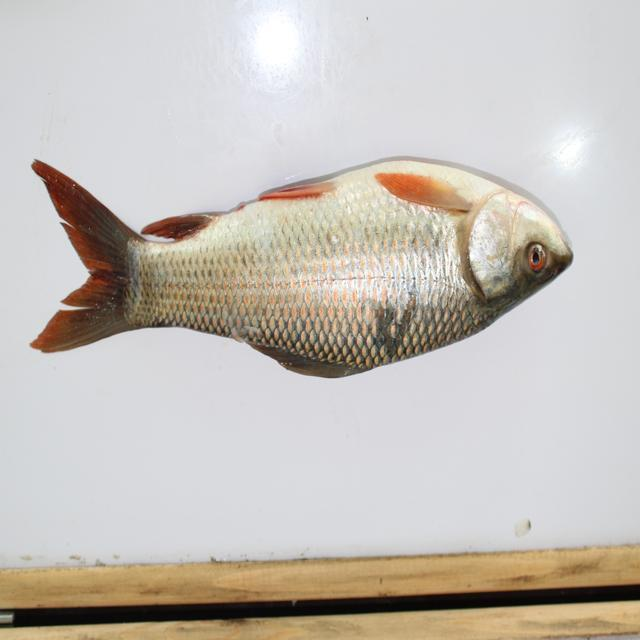Rohu: (31, 139, 579, 393)
